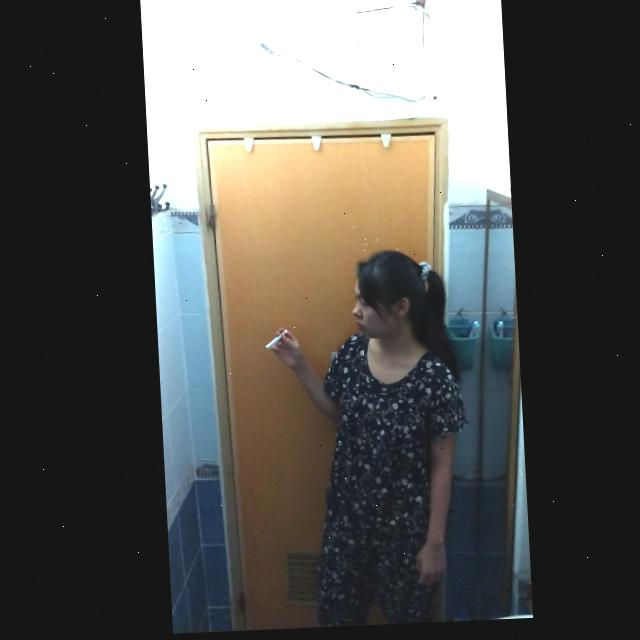cigarette: (260, 332, 285, 352)
